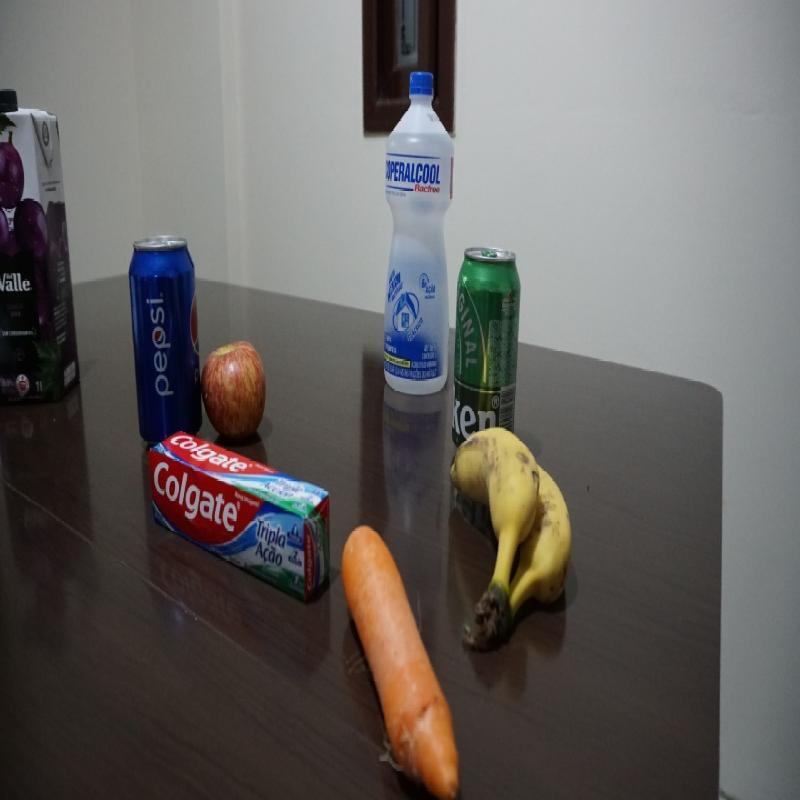Alcohol Bottle: (380, 68, 455, 403)
Apple: (201, 339, 269, 442)
Banana: (449, 428, 573, 652)
Beer can: (451, 245, 522, 447)
Carrot: (342, 523, 462, 795)
Soda can: (128, 237, 204, 445)
Toothpaste: (148, 431, 332, 602)
